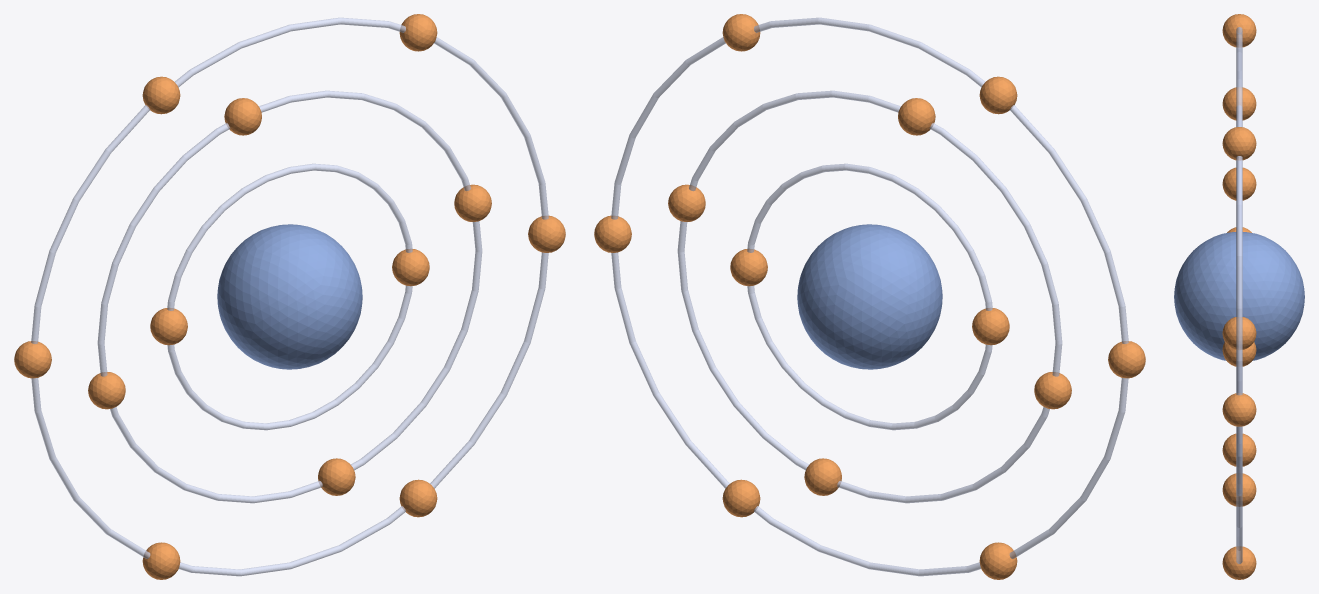
File: bohr-planetary.glb
3 renders of one model, left to right at view 1: azimuth 30°, elevation 25°; view 2: azimuth 150°, elevation 25°; view 3: azimuth 270°, elevation 25°, orthographic. The views are drawn at different scales.
Parts seen in each view (by area): view 1: world; view 2: world; view 3: world.
Boxes of the visible parts, box(x1,y1,x2,y2) form: world: box(14, 14, 565, 579); world: box(594, 14, 1145, 579); world: box(1174, 14, 1304, 579).
Size of the model in its own units: 2.17 by 2.06 by 0.5.
